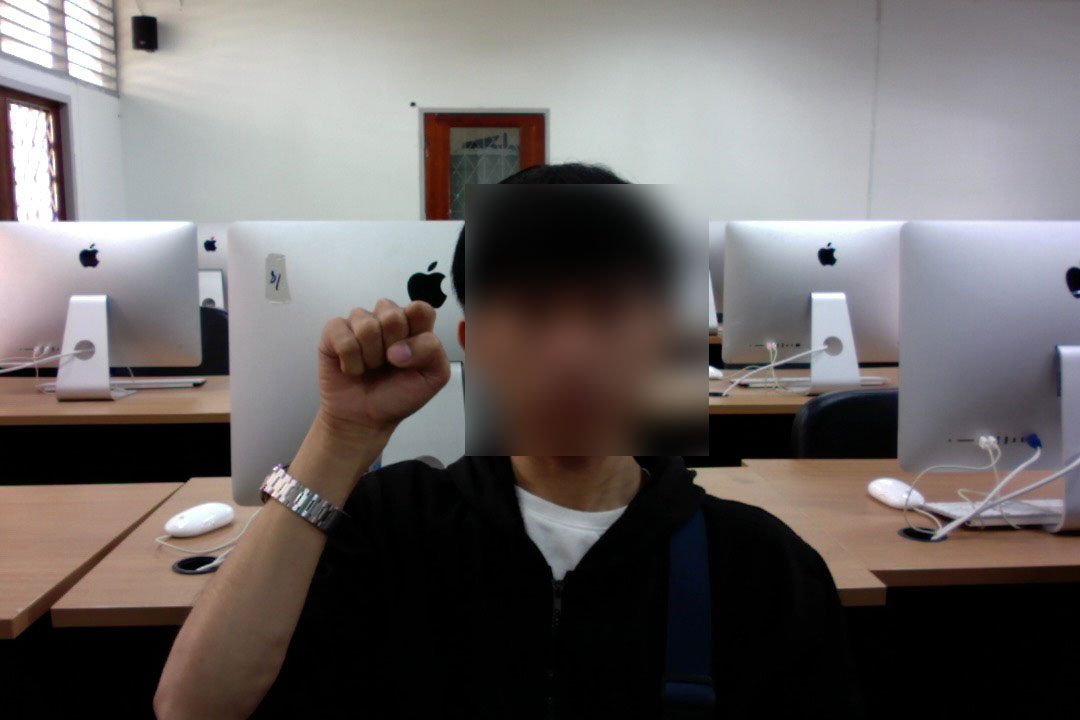sor: (311, 292, 455, 447)
